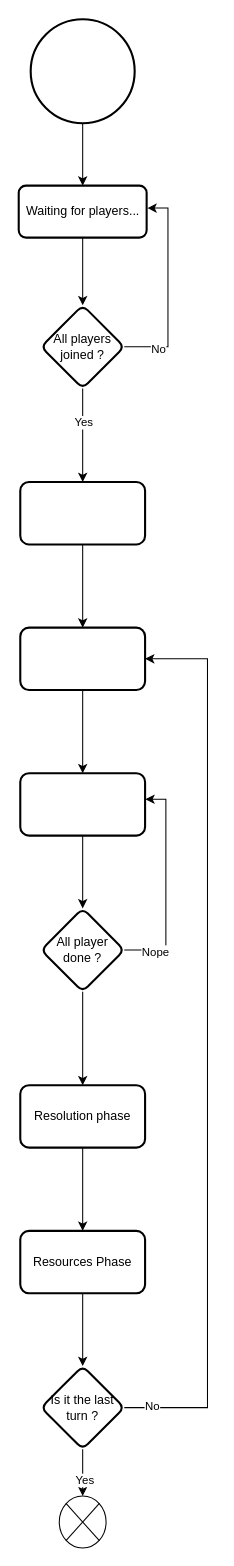
The diagram is 234 pixels wide and 1566 high, and some of its shapes have lost their labels. Here are the shapes that lost their labels. From the top down, the centre of each, then its label:
the point at 82,512: Initialization (World creation and stuff)
the point at 82,658: Events phase
the point at 82,804: Order phase
